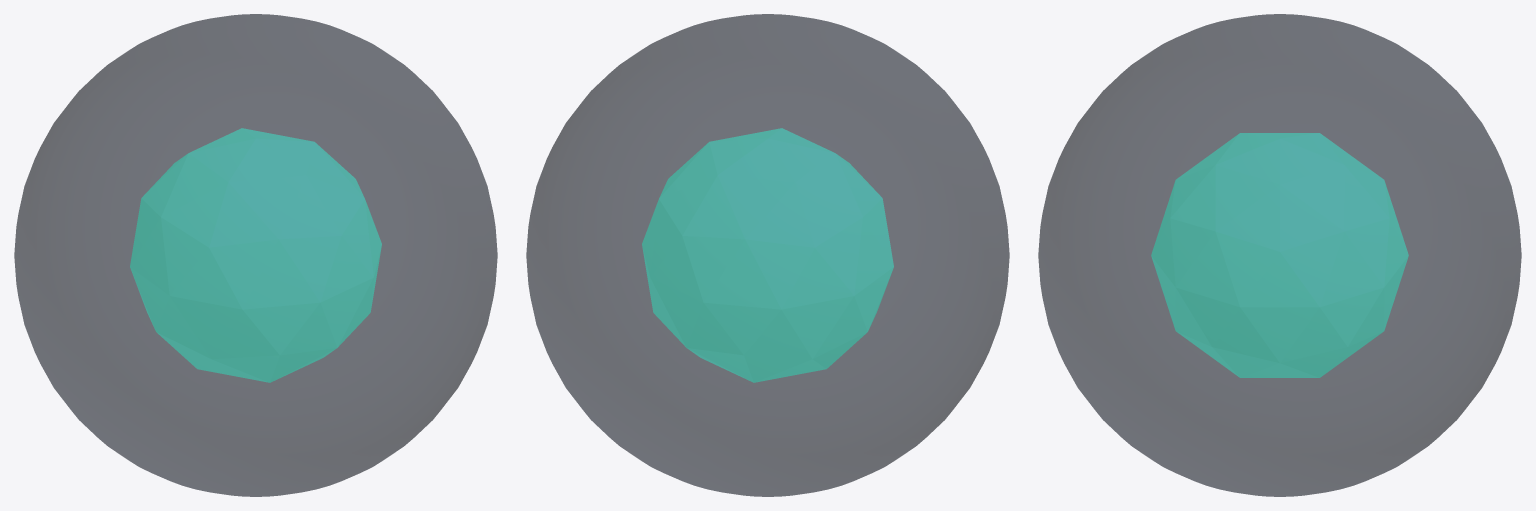
The model's file is orb.glb.
3 renders of one model, left to right at view 1: azimuth 30°, elevation 25°; view 2: azimuth 150°, elevation 25°; view 3: azimuth 270°, elevation 25°, orthographic.
Visible parts, largest first — view 1: lumen_orb, lumen_orb_core; view 2: lumen_orb, lumen_orb_core; view 3: lumen_orb, lumen_orb_core.
Part boxes in pixels (<box>): lumen_orb: <box>14,14,497,496</box>; lumen_orb_core: <box>130,128,381,382</box>; lumen_orb: <box>526,14,1009,496</box>; lumen_orb_core: <box>642,128,893,382</box>; lumen_orb: <box>1038,14,1521,496</box>; lumen_orb_core: <box>1151,133,1408,377</box>.
Size of the model in its own units: 0.09 by 0.09 by 0.09.
